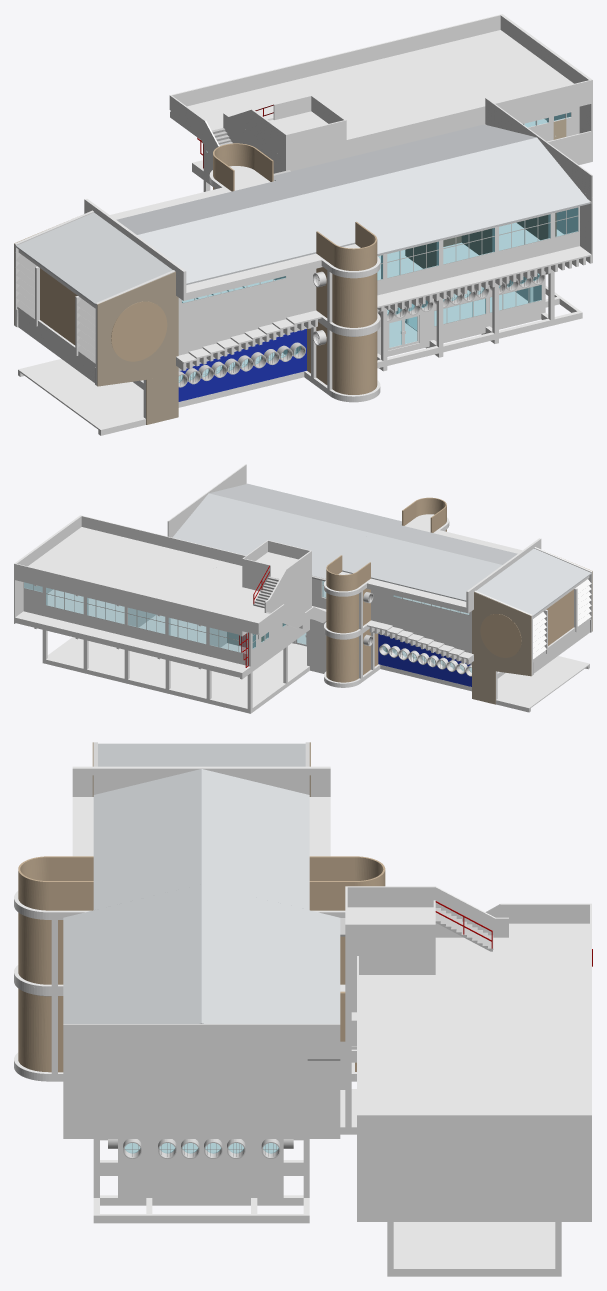
3 renders of one model, top to bottom at view 1: azimuth 30°, elevation 25°; view 2: azimuth 150°, elevation 25°; view 3: azimuth 270°, elevation 25°, orthographic. The views are drawn at different scales.
Parts seen in each view (by area): view 1: EN108RF, EN10802, EN10801; view 2: EN108RF, EN10802, EN10801; view 3: EN108RF, EN10802, EN10801.
Boxes of the visible parts, bbox=[...] form: EN108RF: bbox=[14, 14, 592, 314]; EN10802: bbox=[14, 44, 592, 386]; EN10801: bbox=[17, 180, 592, 435]; EN108RF: bbox=[14, 464, 592, 638]; EN10802: bbox=[14, 481, 592, 679]; EN10801: bbox=[36, 617, 590, 713]; EN108RF: bbox=[14, 742, 591, 1145]; EN10802: bbox=[14, 903, 592, 1221]; EN10801: bbox=[14, 975, 561, 1276].
Bounding box in the file's own units: 42.11 × 11.17 × 27.17.
